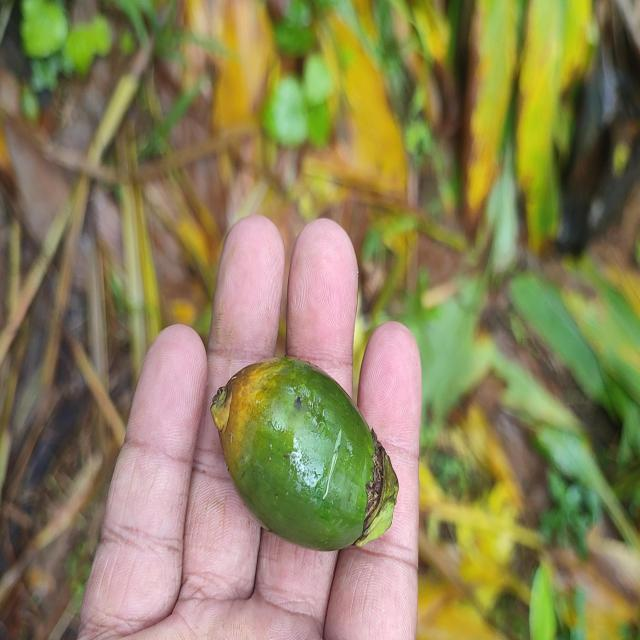good: (208, 359, 398, 554)
